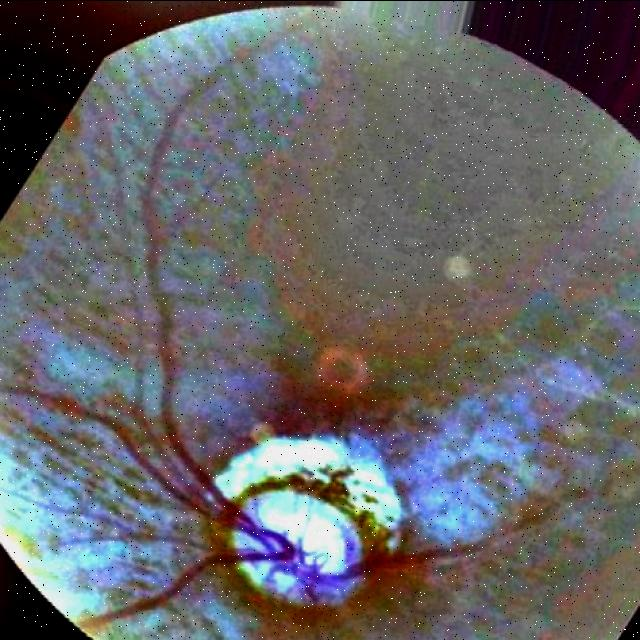Macula: (284, 309, 399, 430)
Nerves: (145, 21, 316, 551), (0, 381, 278, 631), (296, 486, 588, 585)
Optic Disk: (216, 436, 404, 602)
